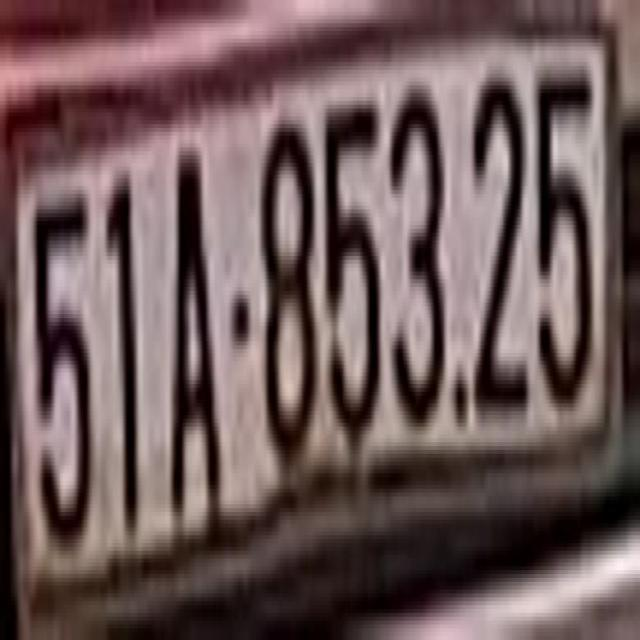1: (106, 163, 148, 535)
2: (469, 62, 530, 423)
3: (390, 74, 442, 434)
5: (30, 190, 92, 574), (322, 97, 384, 438), (536, 58, 595, 411)
8: (260, 105, 319, 465)
A: (168, 120, 222, 504)
